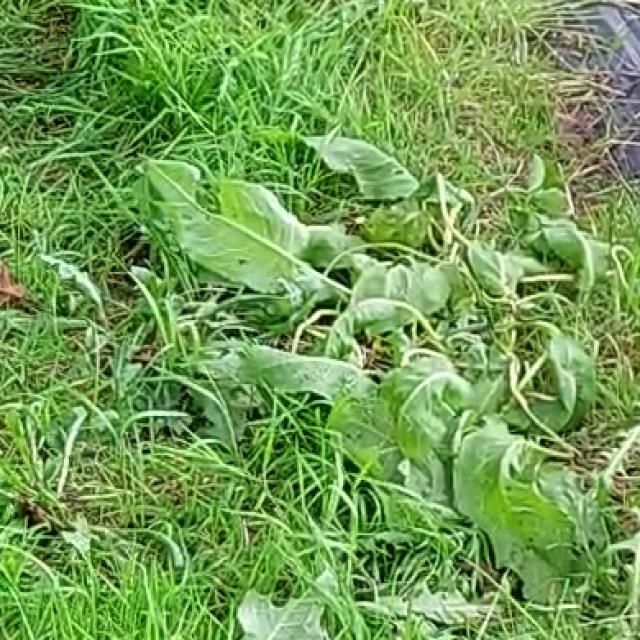organic waste: (149, 114, 612, 537)
